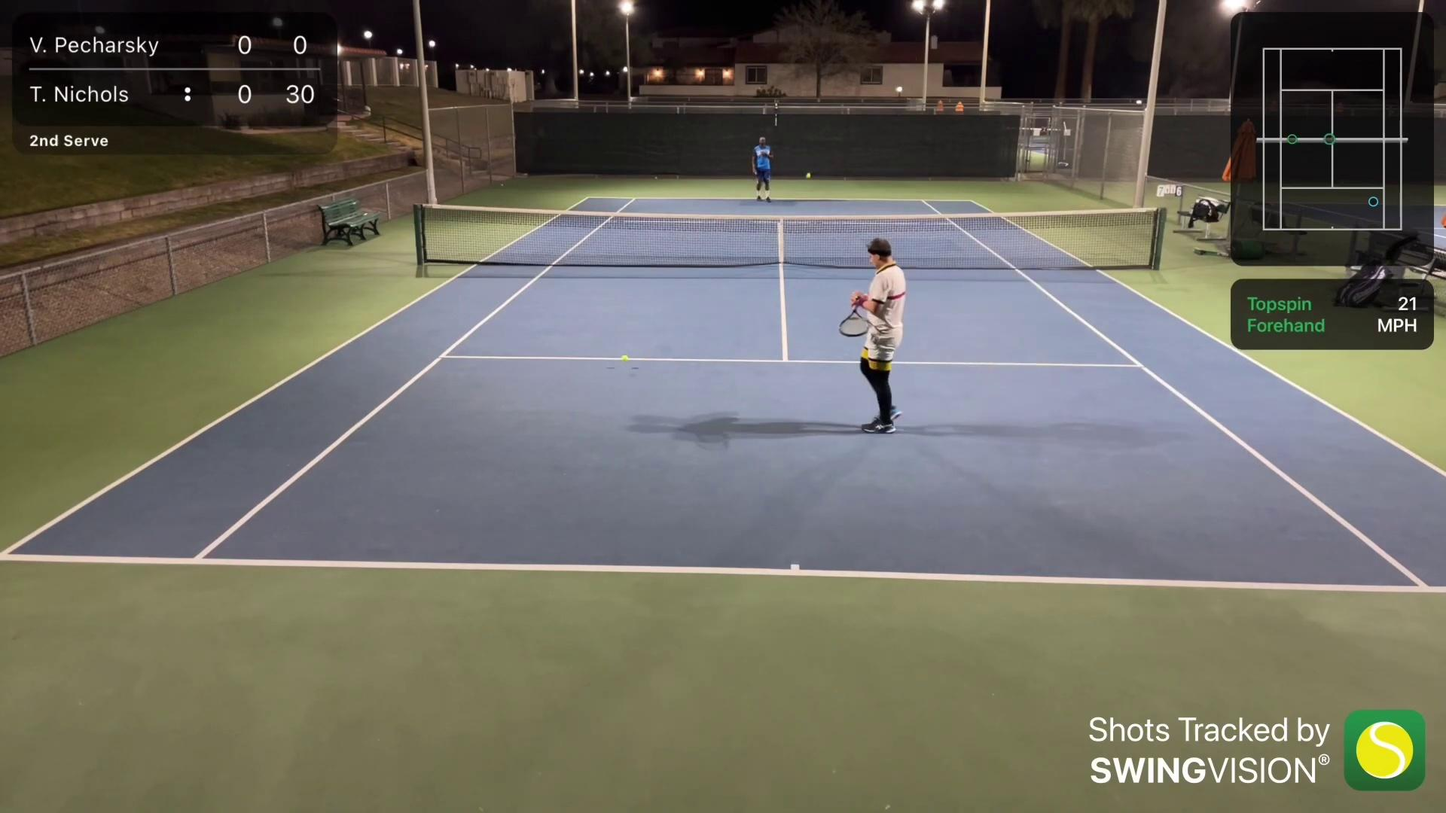ball: (618, 350, 630, 362), (805, 172, 812, 179)
